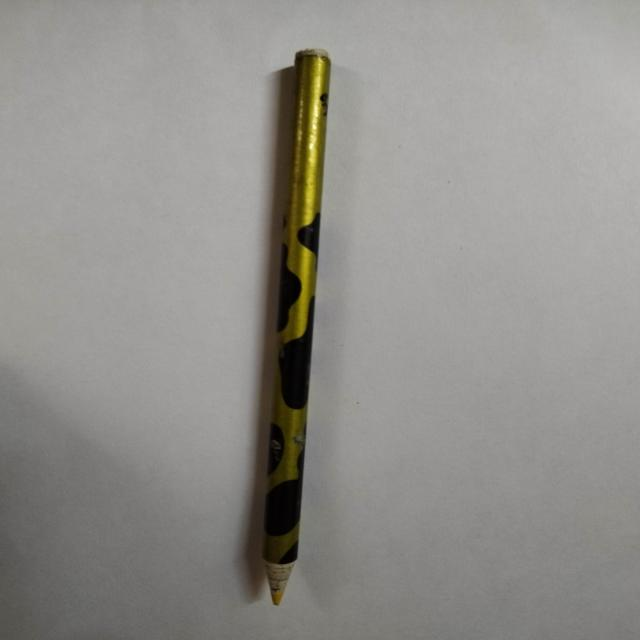pencil: (261, 48, 331, 605)
